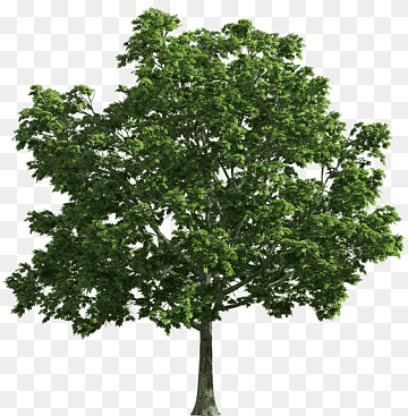tree: (7, 1, 408, 415)
